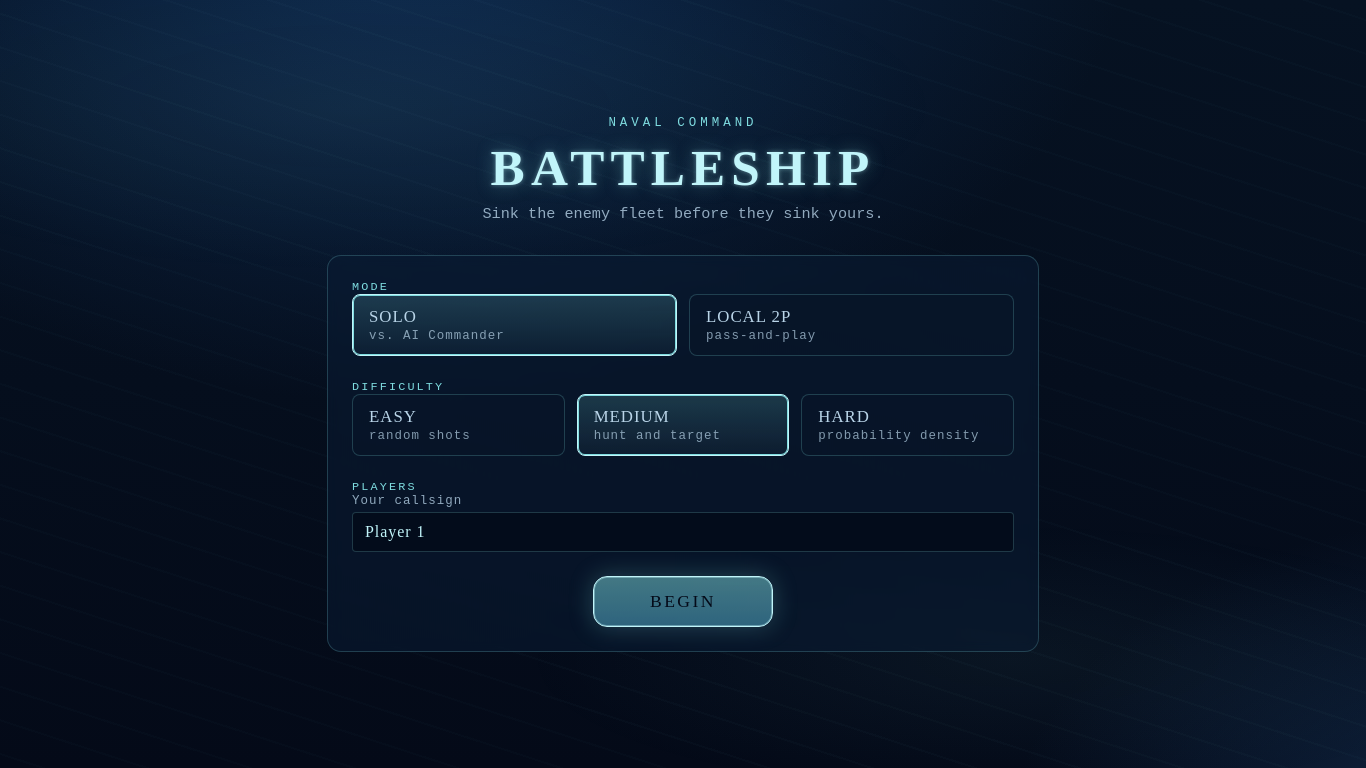
Local 2P privacy + handoff (CP5) › Player 2's hidden fleet is NOT in DOM during Player 1's placement (#39 / setup phase)
Step 1. Click the button "Local 2P pass-and-play" → x=749, y=316, box [689,294,1014,356]
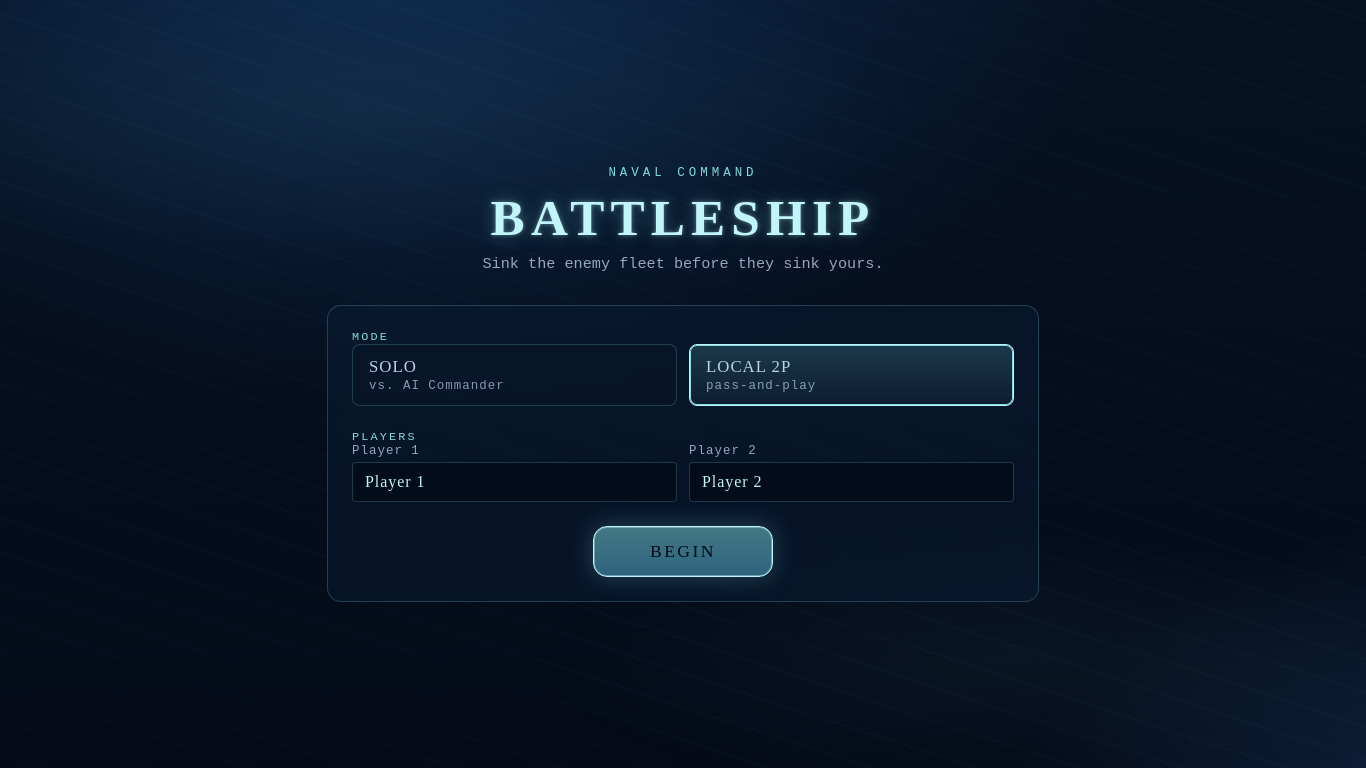
Step 2. Click the button with aria-label "begin placement" → x=683, y=552, box [593,526,773,577]
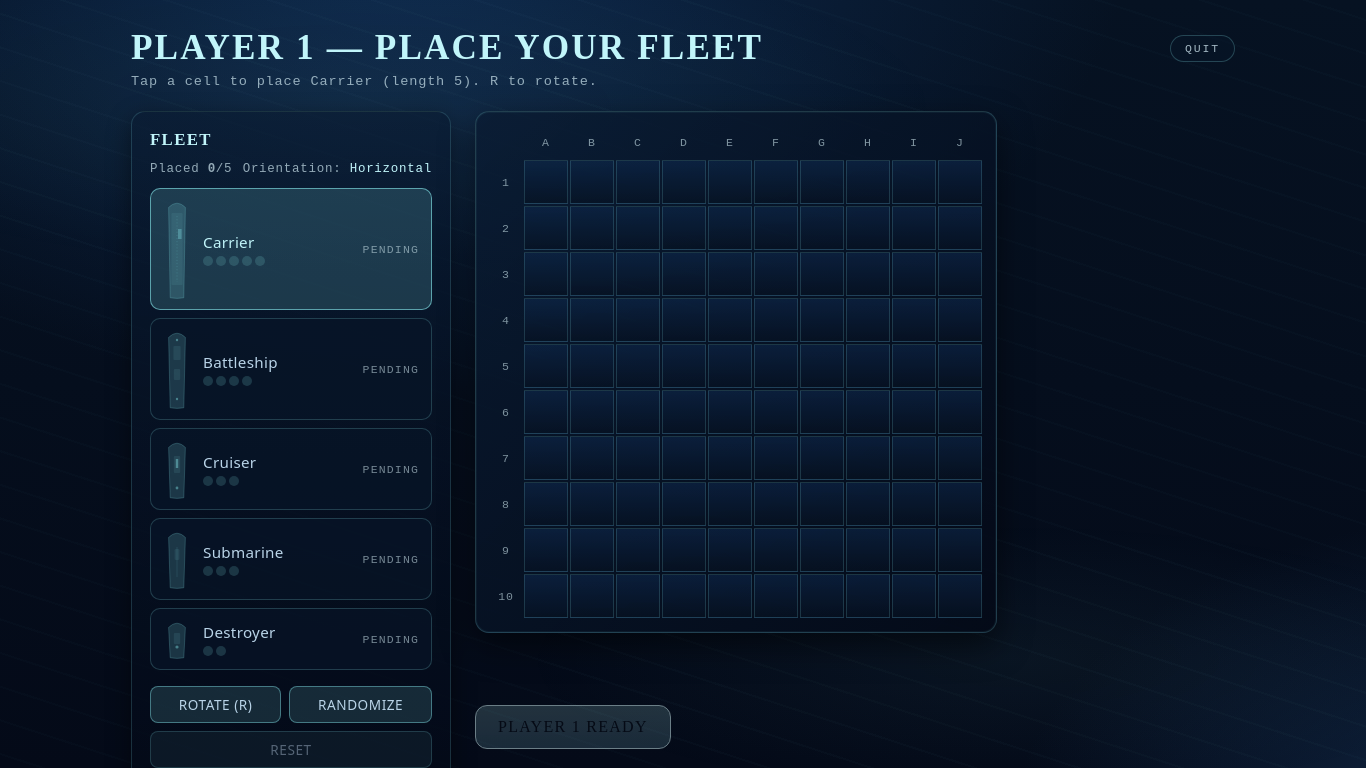
Now the heading "Player 1 — Place your fleet" is shown, box [131,28,763,68]
